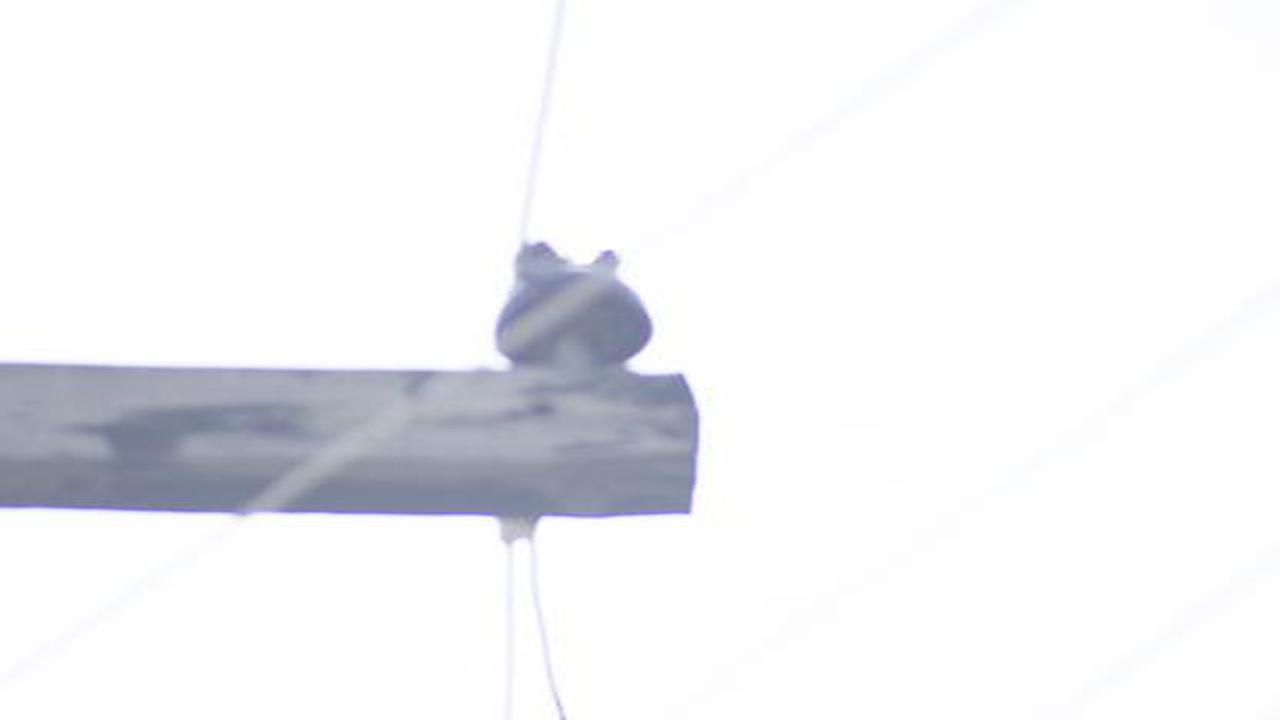insulator_pin: (492, 236, 661, 370)
